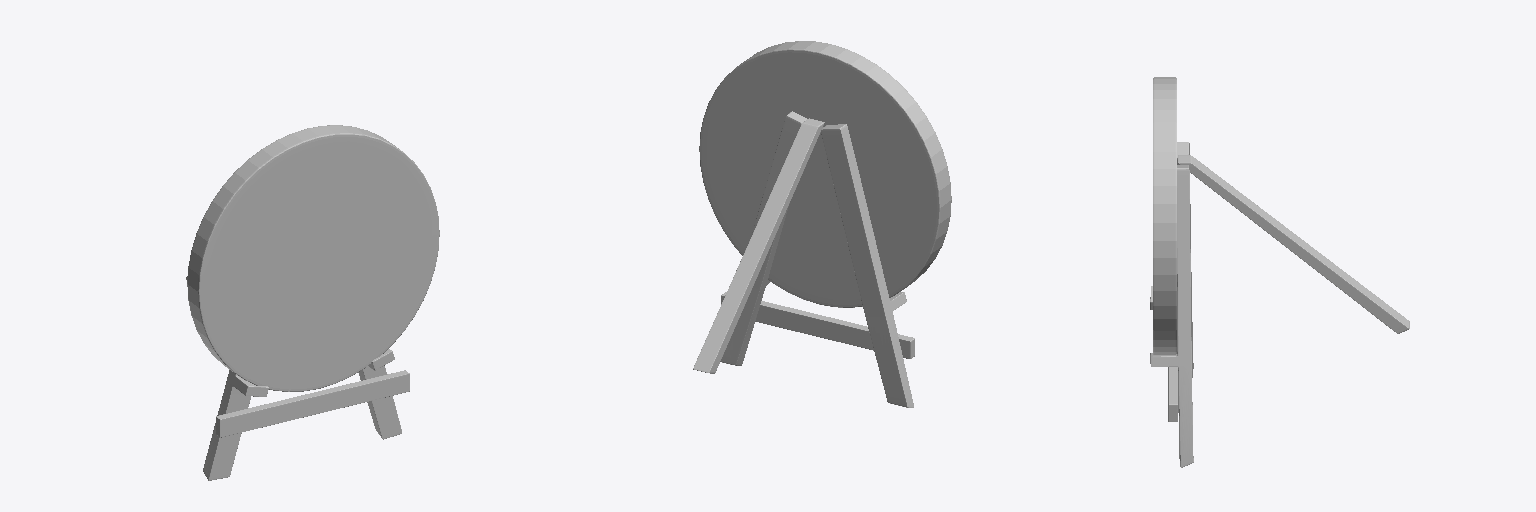
The model's file is target.obj.
The picture shows the model from 3 angles: view 1: azimuth 30°, elevation 25°; view 2: azimuth 150°, elevation 25°; view 3: azimuth 270°, elevation 25°; orthographic projection.
Visible parts, largest first — view 1: target; view 2: target; view 3: target.
Part boxes in pixels (left/top/right/bottom): target: left=186, top=125, right=439, bottom=480; target: left=693, top=41, right=951, bottom=407; target: left=1150, top=77, right=1409, bottom=467.
Size of the model in its own units: 76.65 by 101 by 71.42.